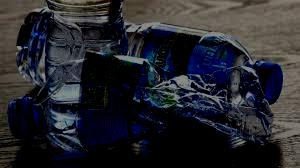Plastic: (5, 53, 276, 151)
